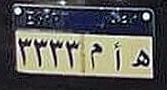3: (65, 38, 82, 71), (17, 37, 33, 69), (33, 36, 48, 69), (49, 38, 63, 71)
alif: (113, 41, 124, 73)
haa: (130, 45, 150, 73)
meem: (89, 41, 102, 73)
